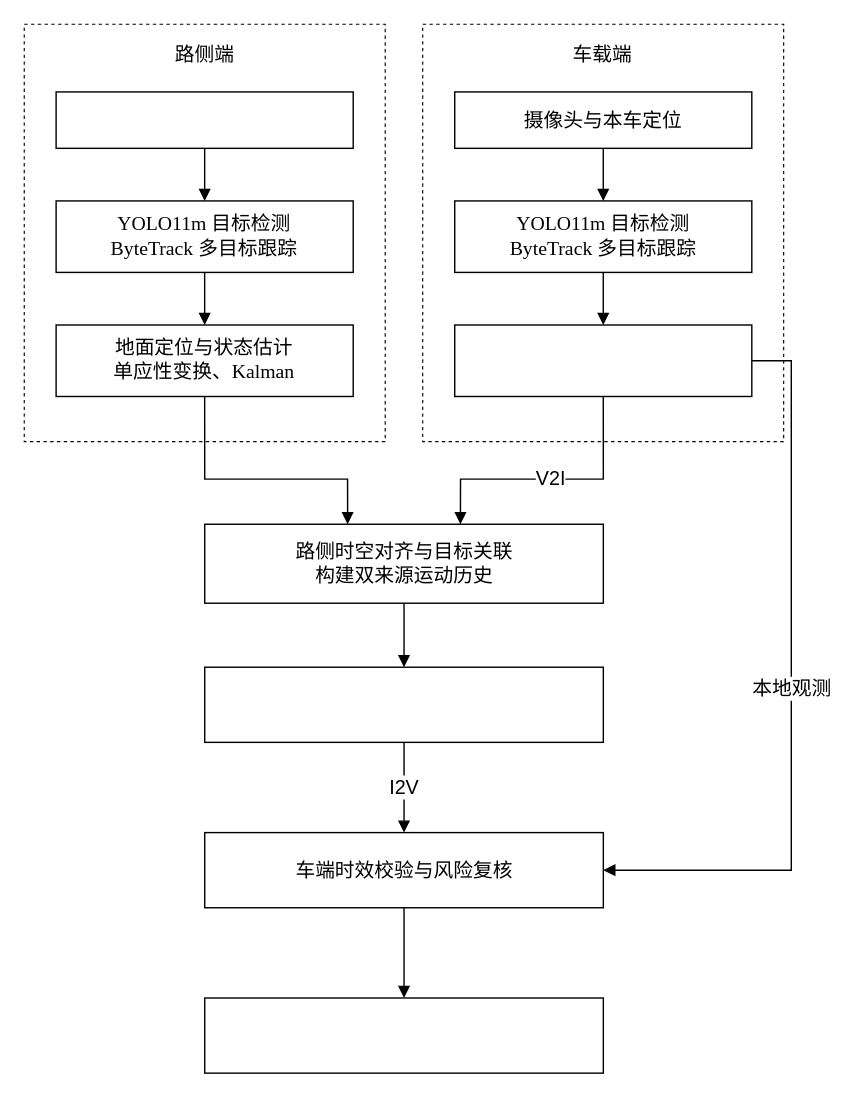
Image size: 856x1098. Some labels were removed from this diagram. The centre of each missing label's shape, as x and y in pixels:
"地面定位与状态估计 射线求交、 Kalman" belongs at point 602,360.
"路侧 RC-STGT 轨迹预测 输出未来轨迹及模式权重" belongs at point 403,704.
"路侧摄像头" belongs at point 204,119.
"车端主动避撞决策与执行" belongs at point 403,1035.
